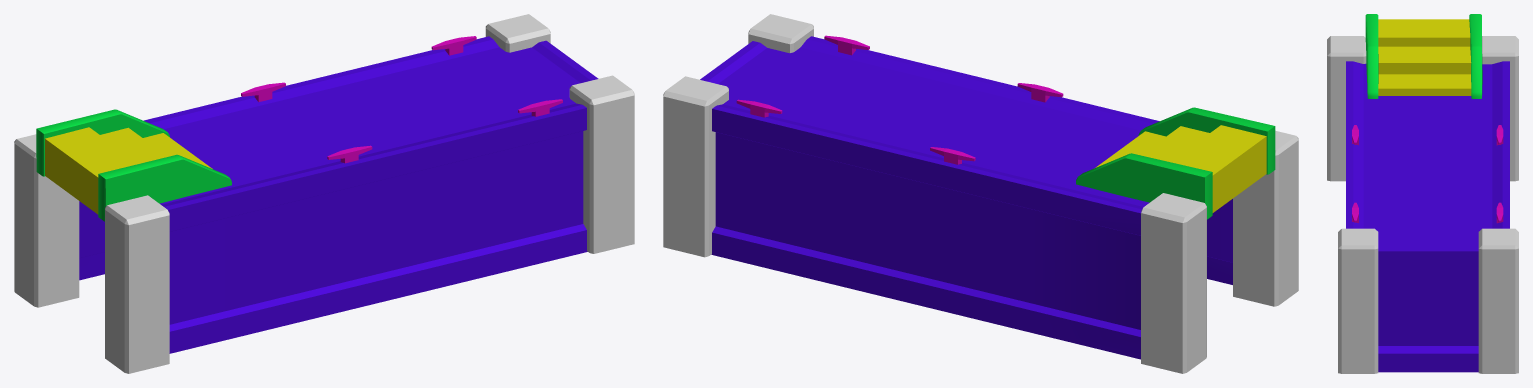
The model's file is Trottoir_3.2.fbx.
The picture shows the model from 3 angles, left to right: view 1: azimuth 30°, elevation 25°; view 2: azimuth 150°, elevation 25°; view 3: azimuth 270°, elevation 25°; orthographic projection. The views are drawn at different scales.
Visible parts, largest first — view 1: Trottoir_3.2; view 2: Trottoir_3.2; view 3: Trottoir_3.2.
Boxes of the visible parts, <box> form: Trottoir_3.2: <box>14,14,634,373</box>; Trottoir_3.2: <box>663,14,1298,373</box>; Trottoir_3.2: <box>1327,14,1518,373</box>.
Size of the model in its own units: 1800 by 598 by 691.
